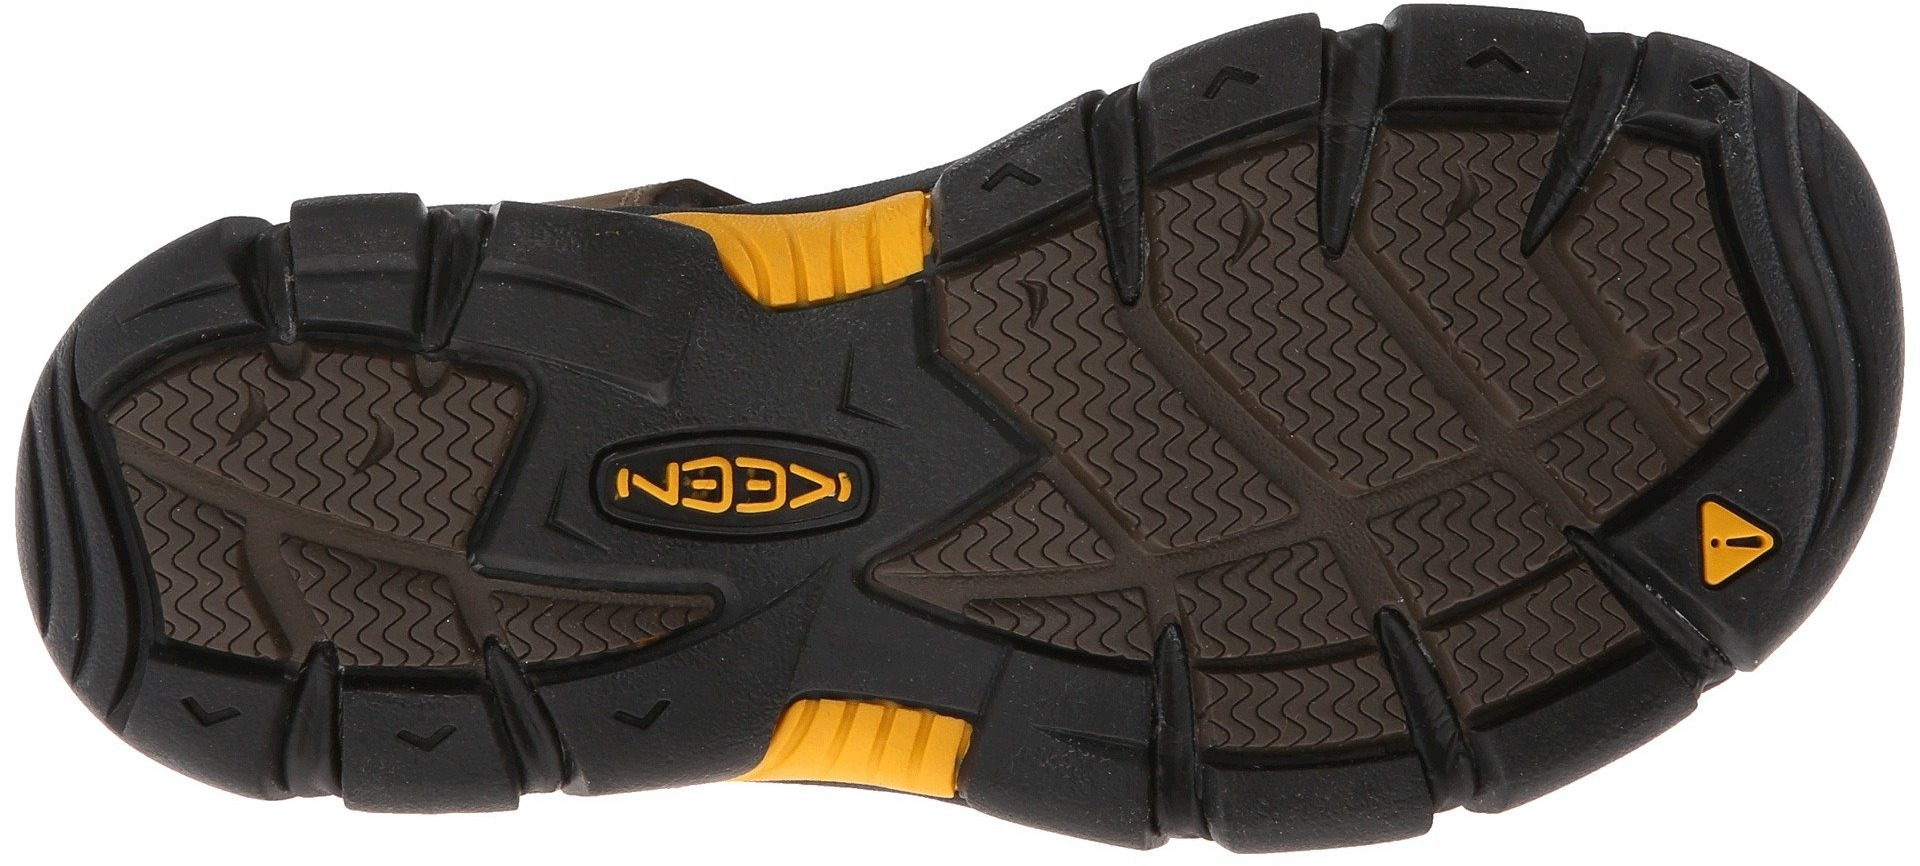chevron: (384, 706, 471, 777)
exclude: (433, 0, 1145, 236)
line: (20, 486, 115, 581)
quad: (580, 361, 889, 622), (1150, 513, 1436, 759), (97, 459, 332, 665), (282, 209, 429, 349)
text: (733, 429, 867, 546), (606, 427, 732, 541)
triangle: (1687, 497, 1787, 592)
